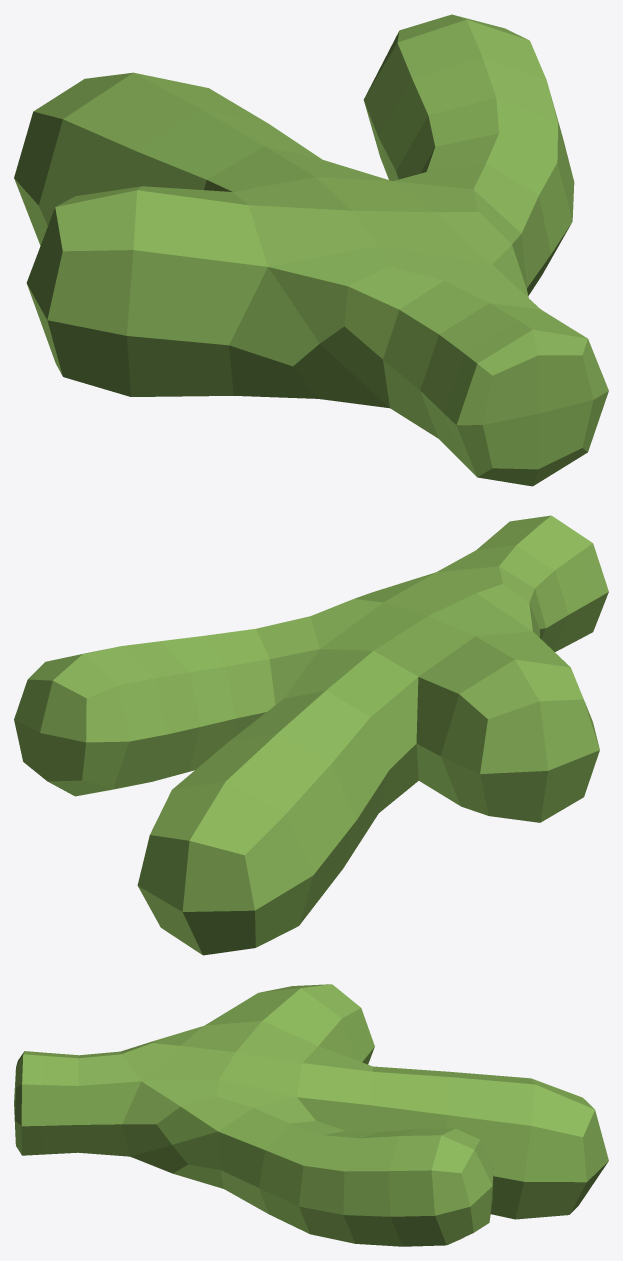
The model's file is kaktus.fbx.
The picture shows the model from 3 angles, top to bottom: view 1: azimuth 30°, elevation 25°; view 2: azimuth 150°, elevation 25°; view 3: azimuth 270°, elevation 25°; orthographic projection. The views are drawn at different scales.
Visible parts, largest first — view 1: Low Poly stylized cactus; view 2: Low Poly stylized cactus; view 3: Low Poly stylized cactus.
Part boxes in pixels (x1,y1,x2,y2): Low Poly stylized cactus: (14, 14, 608, 486); Low Poly stylized cactus: (14, 515, 608, 955); Low Poly stylized cactus: (14, 984, 608, 1246).
Size of the model in its own units: 228 by 96.6 by 304.
